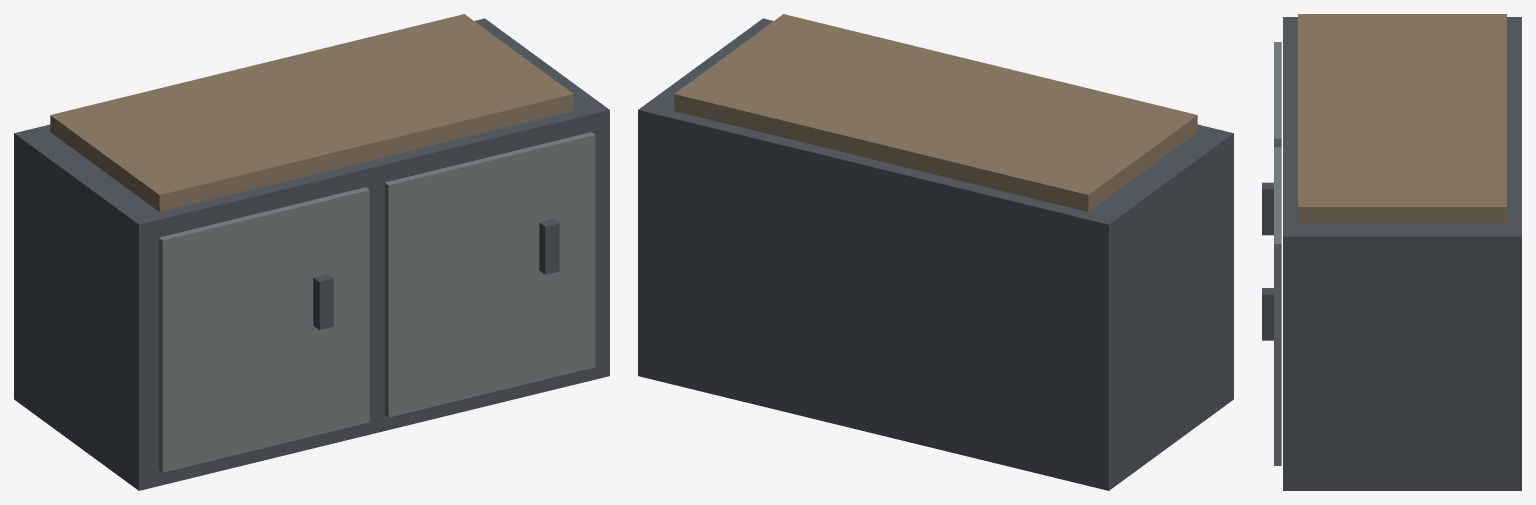
File: office_cabinet.glb
The picture shows the model from 3 angles, left to right: view 1: azimuth 30°, elevation 25°; view 2: azimuth 150°, elevation 25°; view 3: azimuth 270°, elevation 25°; orthographic projection. The views are drawn at different scales.
Visible parts, largest first — view 1: office_cabinet; view 2: office_cabinet; view 3: office_cabinet.
Boxes of the visible parts, x1,y1,x2,y2 form: office_cabinet: (14,14,609,490); office_cabinet: (638,14,1233,490); office_cabinet: (1262,14,1521,490).
Bounding box in the file's own units: 2 × 1.15 × 1.
